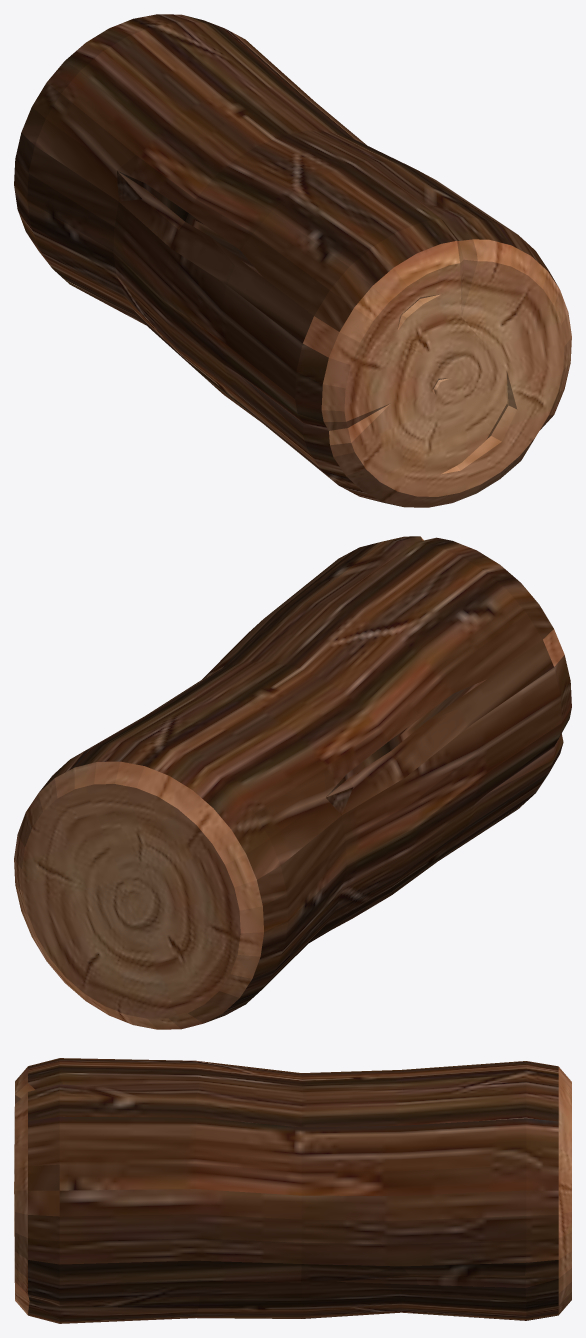
The model's file is log.glb.
3 views of the same model, one above another, from view 1: azimuth 30°, elevation 25°; view 2: azimuth 150°, elevation 25°; view 3: azimuth 270°, elevation 25° (orthographic). The views are drawn at different scales.
Parts seen in each view (by area): view 1: log; view 2: log; view 3: log.
Part boxes in pixels (x1,y1,x2,y2): log: (14,14,571,507); log: (14,536,571,1029); log: (14,1058,571,1323).
Size of the model in its own units: 0.4231 by 0.4231 by 0.8891.
Materials: 1 (1 with a texture image).
